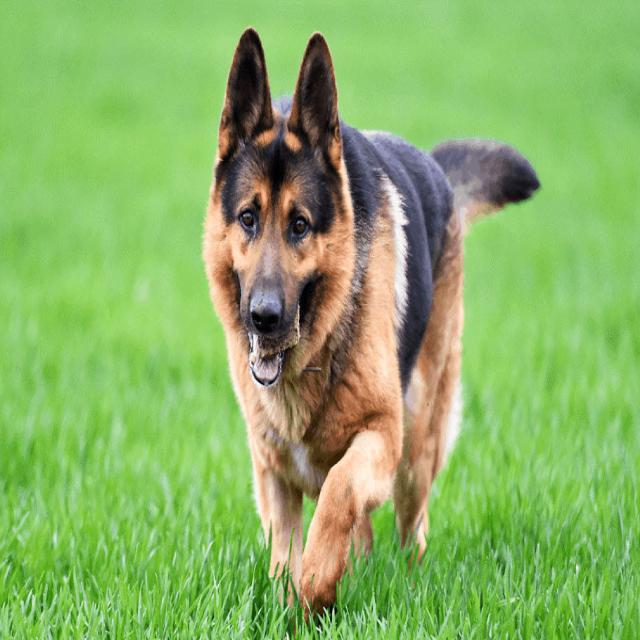GERMAN_SHEPHERD: (188, 17, 556, 627)
